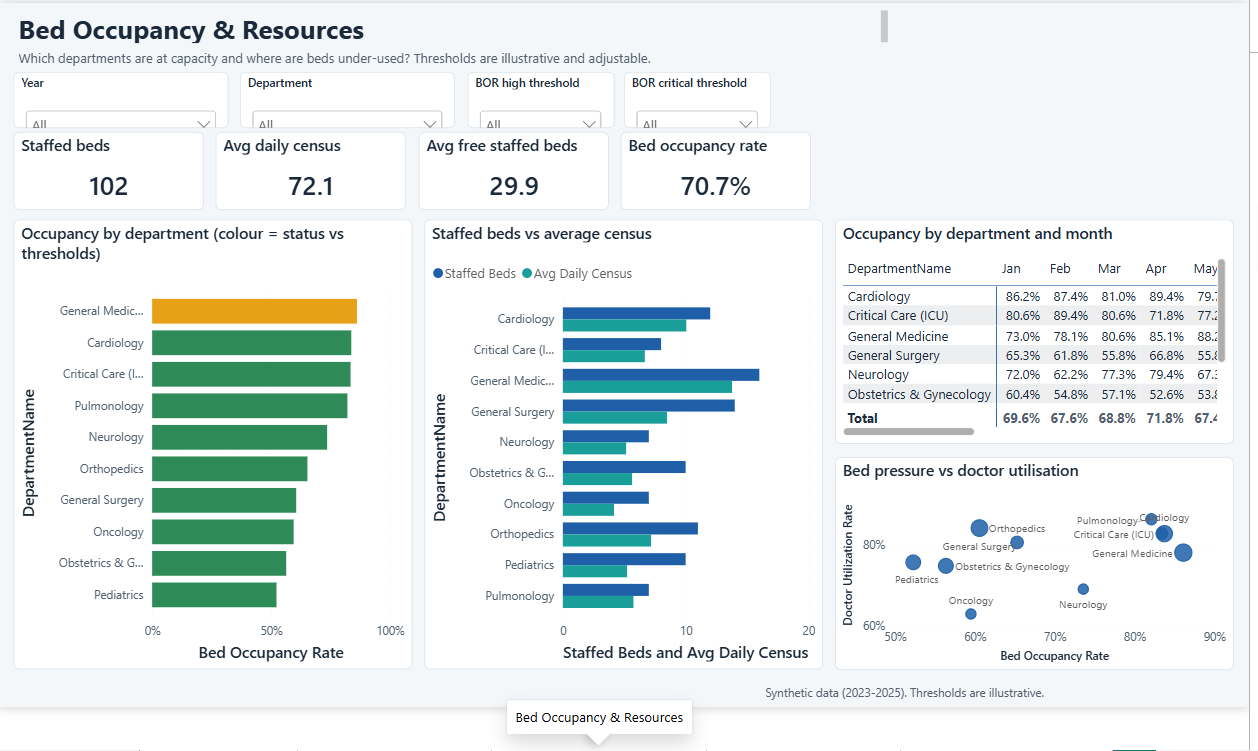

Layout of this report page (visuals, bound fields, positions):
{"tool":"powerbi","page":{"name":"Bed Occupancy & Resources","canvas":[1280,720],"ordinal":2},"visuals":[{"type":"textbox","box":[16,2,900,44],"z":100},{"type":"textbox","box":[16,42,1240,30],"z":200},{"type":"textbox","box":[780,690,484,30],"z":300},{"type":"slicer","title":"Year","fields":{"Values":["DimDate.Year"]},"box":[16,70,220,58],"z":400},{"type":"slicer","title":"Department","fields":{"Values":["DimDepartments.DepartmentName"]},"box":[248,70,220,58],"z":500},{"type":"slicer","title":"BOR high threshold","fields":{"Values":["BOR High Threshold.BOR High Threshold"]},"box":[480,70,150,58],"z":600},{"type":"slicer","title":"BOR critical threshold","fields":{"Values":["BOR Critical Threshold.BOR Critical Threshold"]},"box":[640,70,150,58],"z":700},{"type":"card","title":"Staffed beds","fields":{"Values":["_Measures.Staffed Beds"]},"box":[16,132,195,80],"z":800},{"type":"card","title":"Avg daily census","fields":{"Values":["_Measures.Avg Daily Census"]},"box":[223,132,195,80],"z":900},{"type":"card","title":"Avg free staffed beds","fields":{"Values":["_Measures.Available Bed Count"]},"box":[430,132,195,80],"z":1000},{"type":"card","title":"Bed occupancy rate","fields":{"Values":["_Measures.Bed Occupancy Rate"]},"box":[637,132,195,80],"z":1100},{"type":"clusteredBarChart","title":"Occupancy by department (colour = status vs thresholds)","fields":{"Category":["DimDepartments.DepartmentName"],"Y":["_Measures.Bed Occupancy Rate"]},"box":[16,222,408,460],"z":1200},{"type":"clusteredBarChart","title":"Staffed beds vs average census","fields":{"Category":["DimDepartments.DepartmentName"],"Y":["_Measures.Staffed Beds","_Measures.Avg Daily Census"]},"box":[436,222,408,460],"z":1300},{"type":"pivotTable","title":"Occupancy by department and month","fields":{"Rows":["DimDepartments.DepartmentName"],"Columns":["DimDate.MonthShort"],"Values":["_Measures.Bed Occupancy Rate"]},"box":[856,222,408,230],"z":1400},{"type":"scatterChart","title":"Bed pressure vs doctor utilisation","fields":{"Category":["DimDepartments.DepartmentName"],"X":["_Measures.Bed Occupancy Rate"],"Y":["_Measures.Doctor Utilization Rate"],"Size":["_Measures.Total Admissions"]},"box":[856,464,408,218],"z":1500}]}

Visuals, with their boxes on the page's 1280x720 design canvas (x1, y1, x2, y2). These are canvas units, not pixel positions in the 1258x751 screenshot, which may show the page scaled, cropped or inside an application window:
textbox: (left=16, top=2, right=916, bottom=46)
textbox: (left=16, top=42, right=1256, bottom=72)
textbox: (left=780, top=690, right=1264, bottom=720)
"Year" slicer: (left=16, top=70, right=236, bottom=128)
"Department" slicer: (left=248, top=70, right=468, bottom=128)
"BOR high threshold" slicer: (left=480, top=70, right=630, bottom=128)
"BOR critical threshold" slicer: (left=640, top=70, right=790, bottom=128)
"Staffed beds" card: (left=16, top=132, right=211, bottom=212)
"Avg daily census" card: (left=223, top=132, right=418, bottom=212)
"Avg free staffed beds" card: (left=430, top=132, right=625, bottom=212)
"Bed occupancy rate" card: (left=637, top=132, right=832, bottom=212)
"Occupancy by department (colour = status vs thresholds)" clusteredBarChart: (left=16, top=222, right=424, bottom=682)
"Staffed beds vs average census" clusteredBarChart: (left=436, top=222, right=844, bottom=682)
"Occupancy by department and month" pivotTable: (left=856, top=222, right=1264, bottom=452)
"Bed pressure vs doctor utilisation" scatterChart: (left=856, top=464, right=1264, bottom=682)
